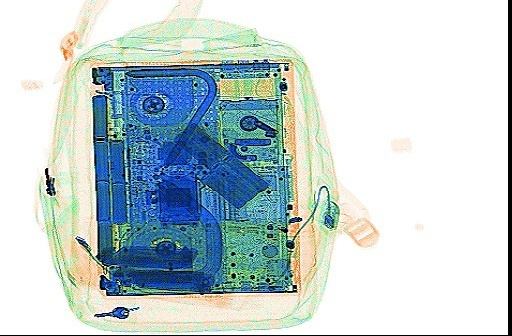knife: (106, 267, 215, 294), (95, 243, 197, 268)
powerbank: (158, 121, 270, 210)
